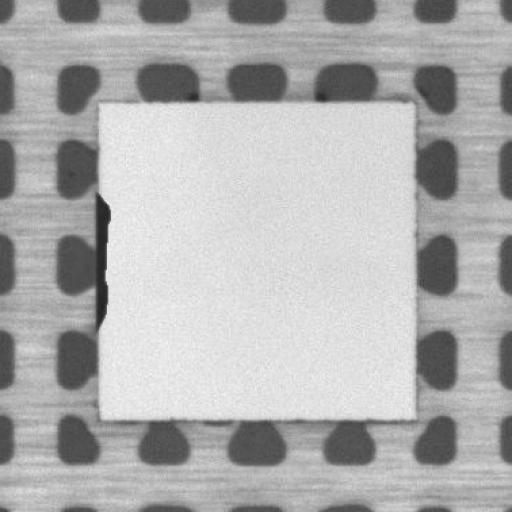DIE_BROKEN: (91, 191, 112, 332)
